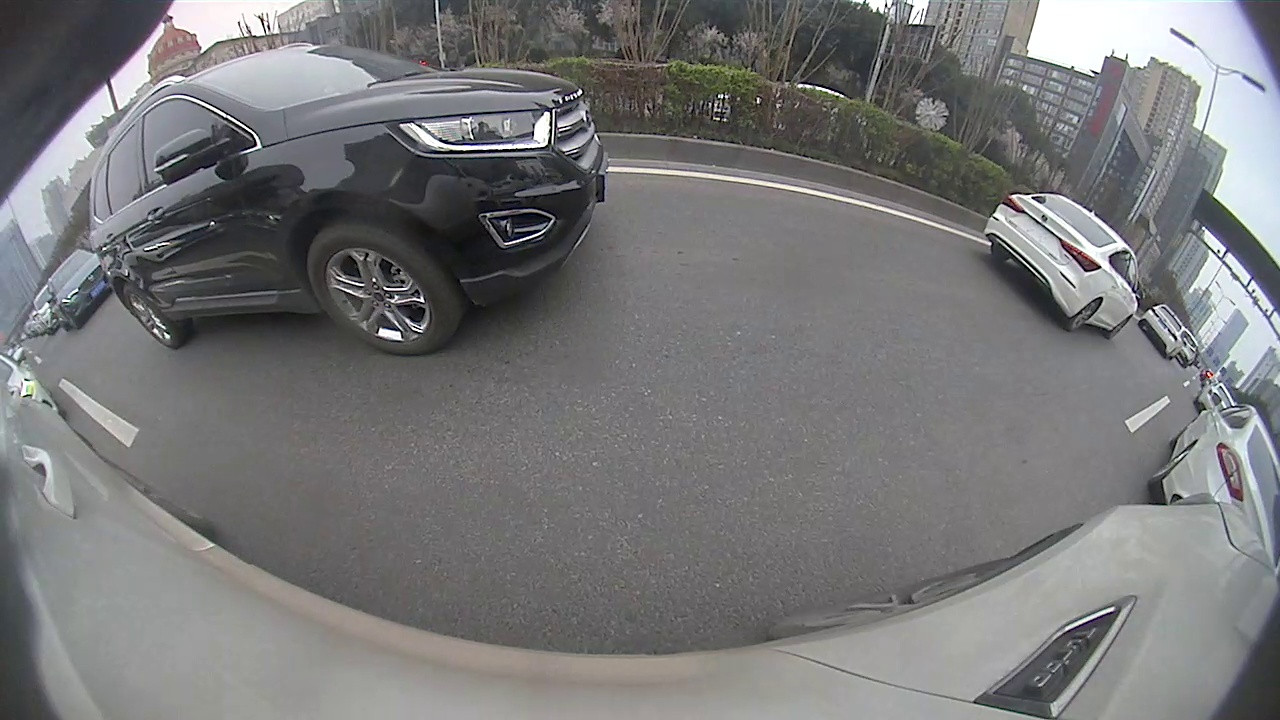car: (88, 43, 611, 359), (1146, 389, 1278, 575), (982, 192, 1144, 340), (43, 248, 113, 334), (1137, 304, 1188, 361)
front: (304, 227, 450, 354)
rear: (115, 286, 183, 347), (1067, 299, 1103, 330)
